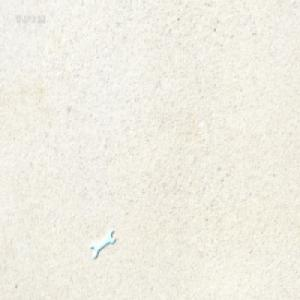Wrench: (91, 230, 116, 258)
